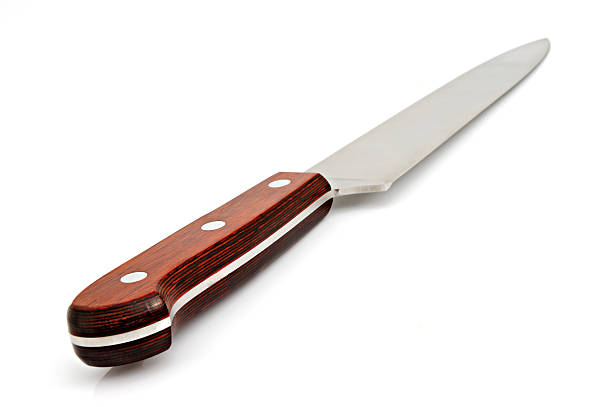knife: (58, 30, 553, 372)
